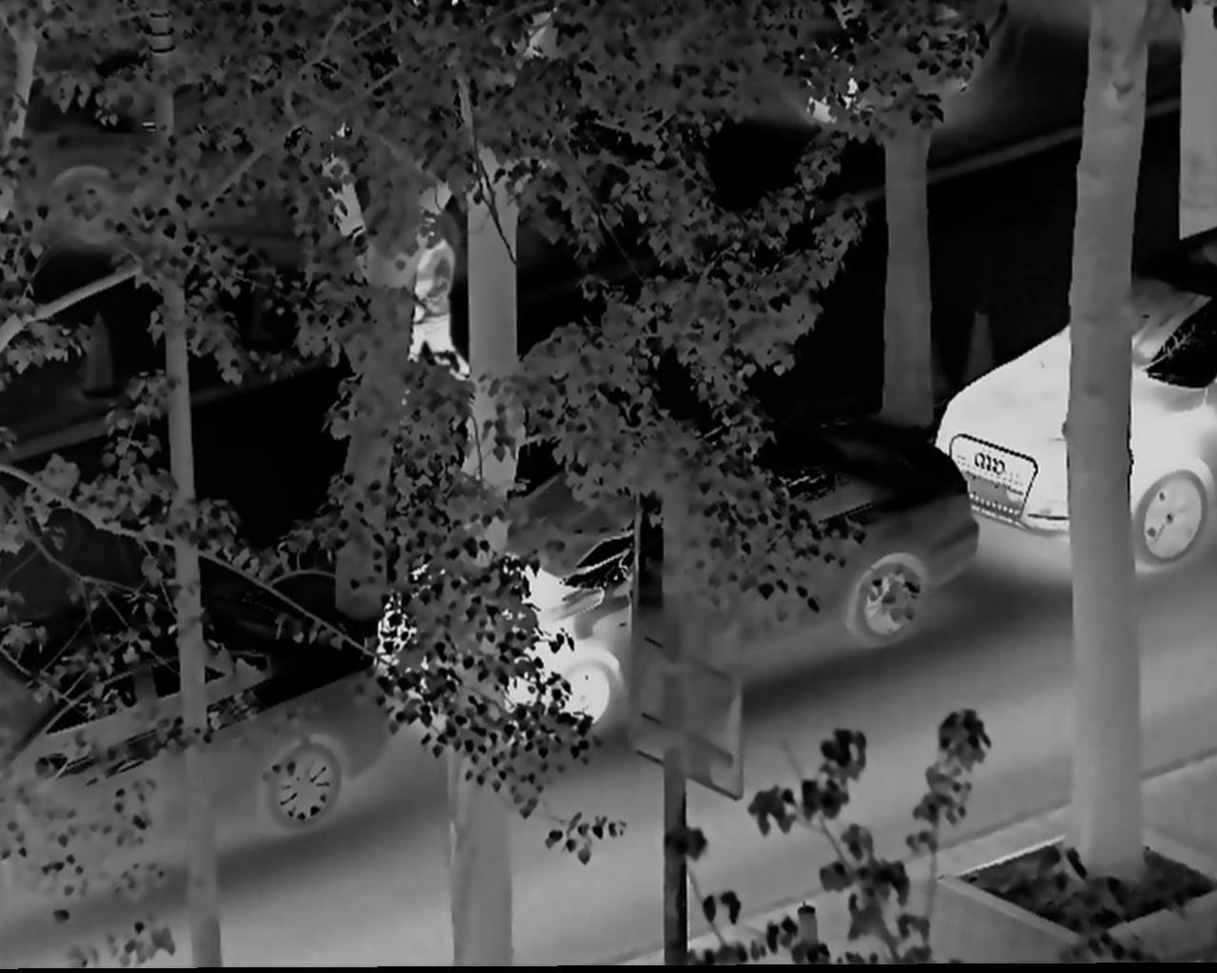person: (396, 201, 473, 395)
